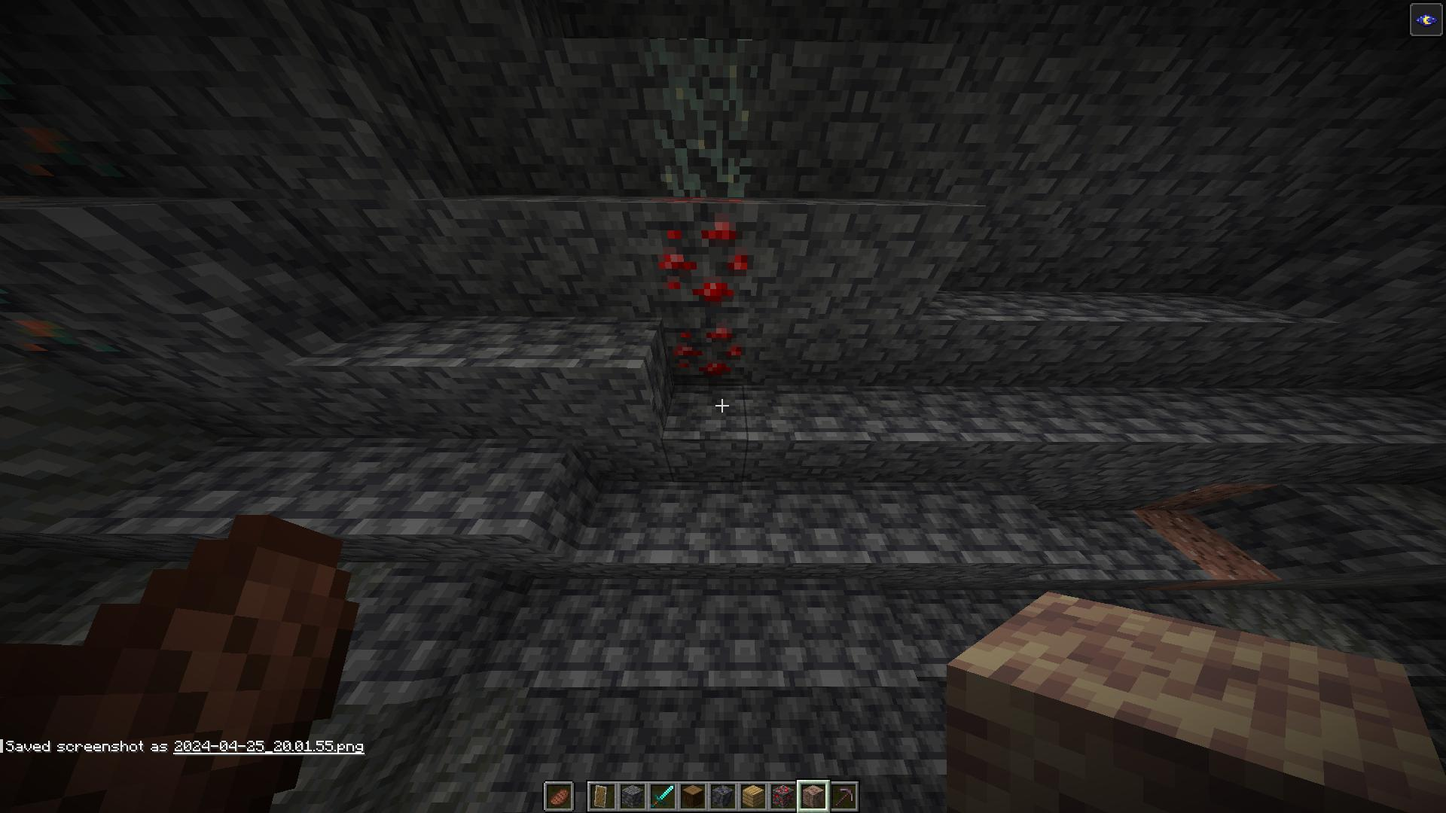redstone ore: (650, 208, 757, 304), (668, 316, 746, 387)
